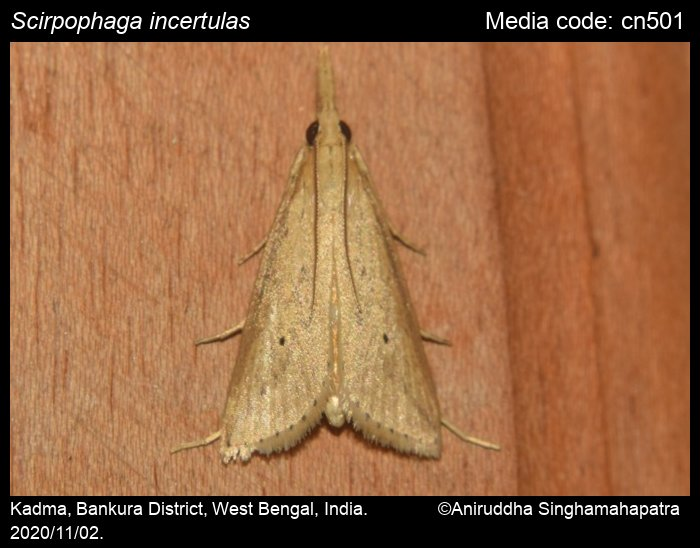Crambidae: (172, 49, 494, 466)
